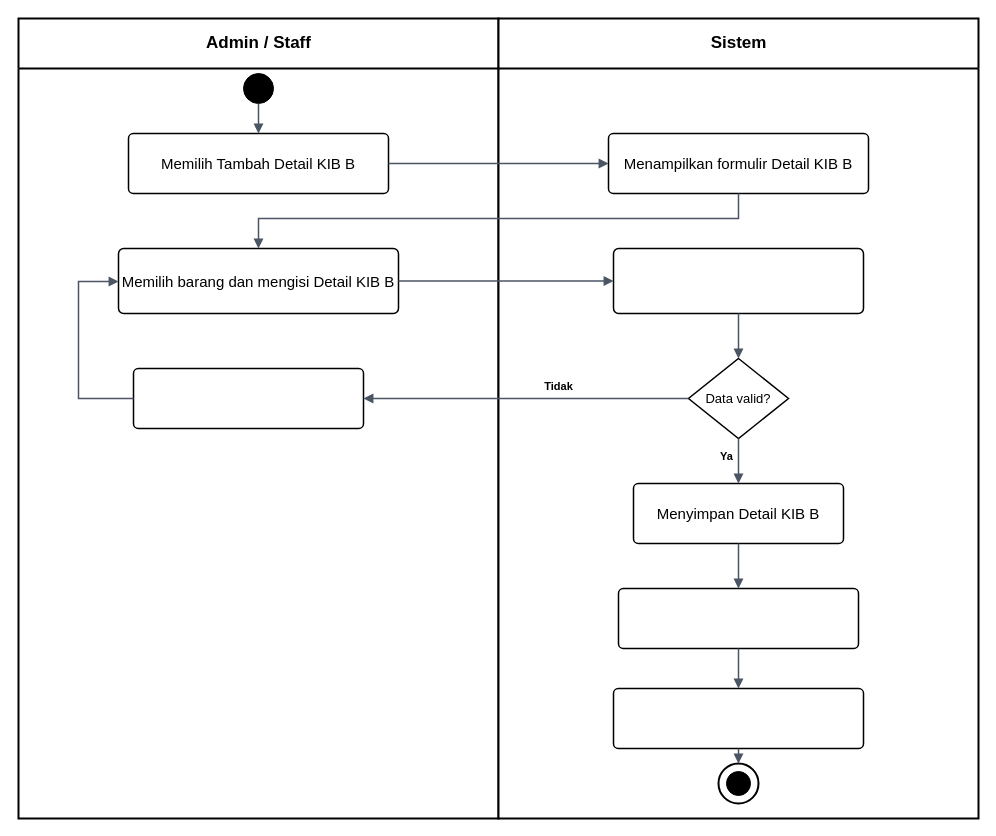
Some shapes in this 996 by 836 pixel diagram are drawn without their labels. Here are the shapes that lost their labels. From the top down, the centre of each, then its label:
the point at 738,280: Memvalidasi data Detail KIB B
the point at 248,398: Menampilkan pesan kesalahan
the point at 738,618: Menandai barang sebagai KIB B
the point at 738,718: Menampilkan daftar Detail KIB B
